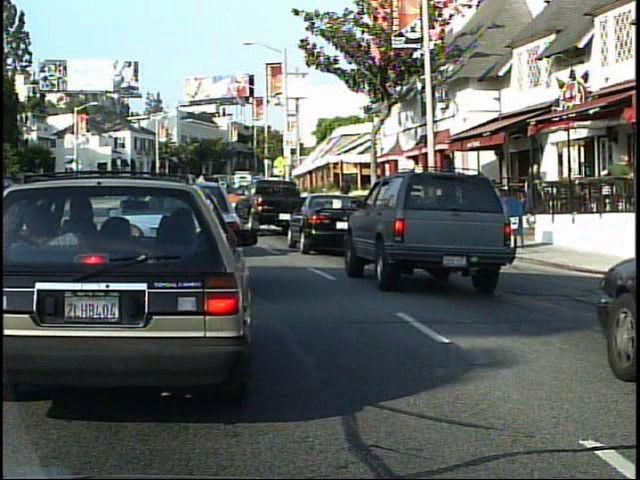person: (517, 160, 551, 228), (601, 150, 634, 179)
